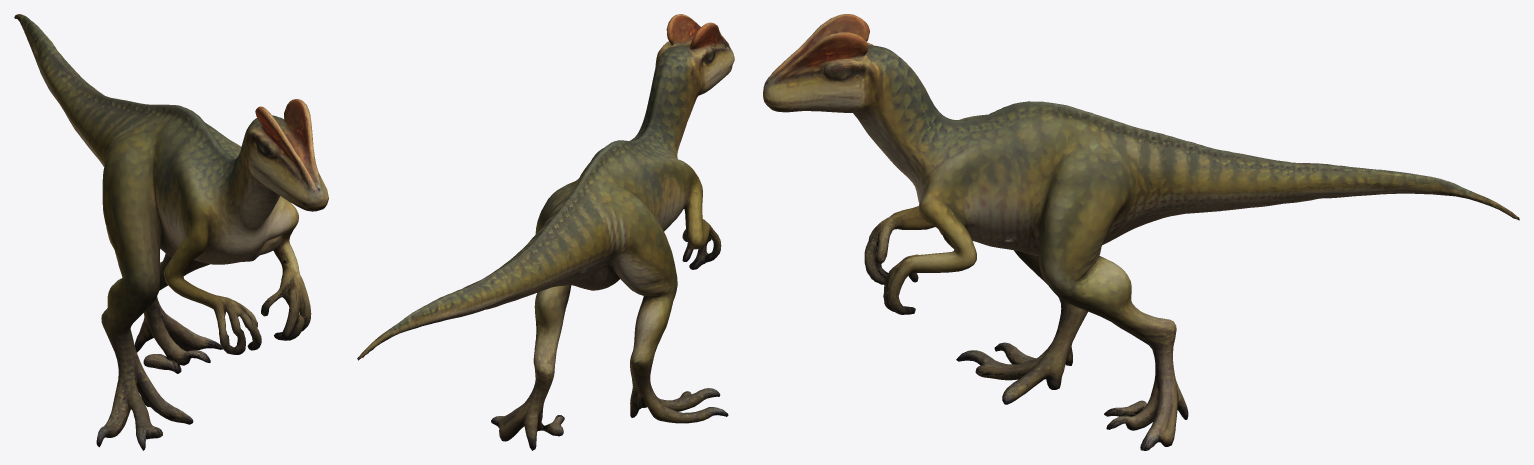
3 renders of one model, left to right at view 1: azimuth 30°, elevation 25°; view 2: azimuth 150°, elevation 25°; view 3: azimuth 270°, elevation 25°, orthographic. The views are drawn at different scales.
Visible parts, largest first — view 1: geometry_0; view 2: geometry_0; view 3: geometry_0.
Part boxes in pixels (x1,y1,x2,y2): geometry_0: [14, 14, 328, 450]; geometry_0: [357, 14, 734, 450]; geometry_0: [763, 14, 1519, 450].
Size of the model in its own units: 1.88 by 3.45 by 6.
Materials: 1 (1 with a texture image).
